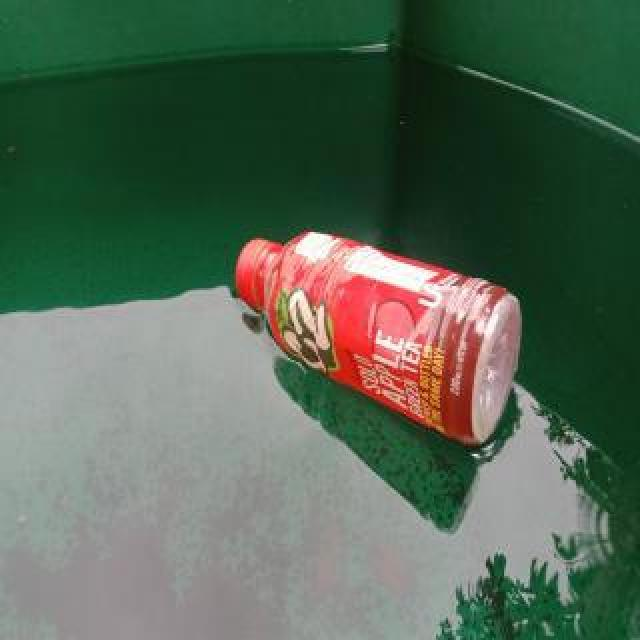bottle: (228, 228, 528, 456)
